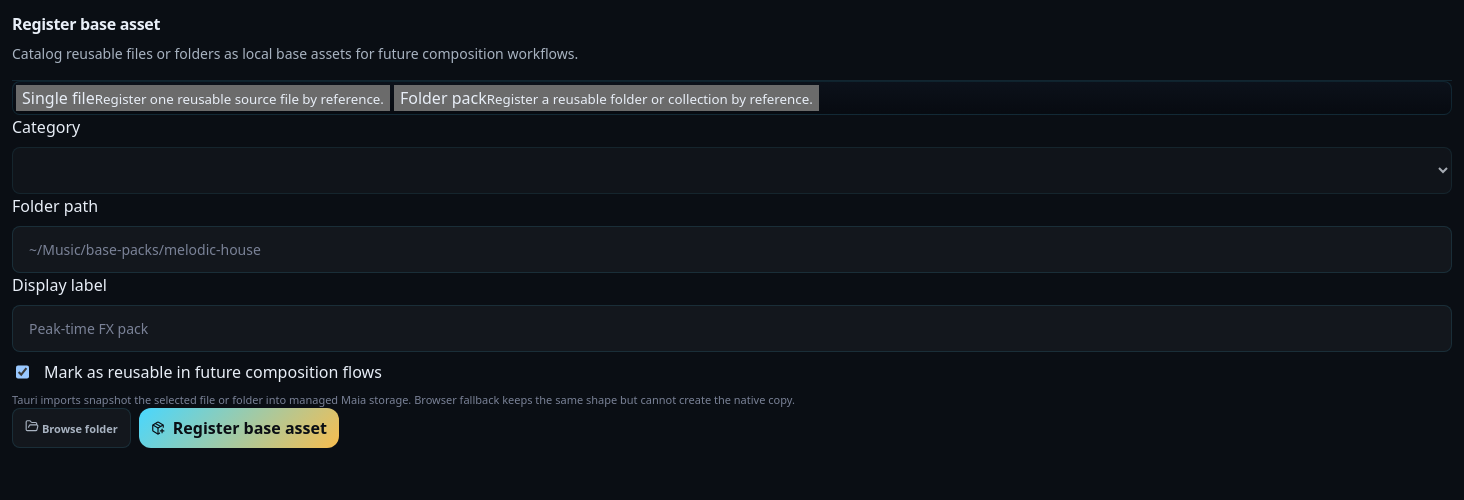
Test: ImportBaseAssetForm › validates required path and category before importing
The image size is (1464, 500).
Click the button "Register base asset" at point(239, 428), box [139,408,339,448]
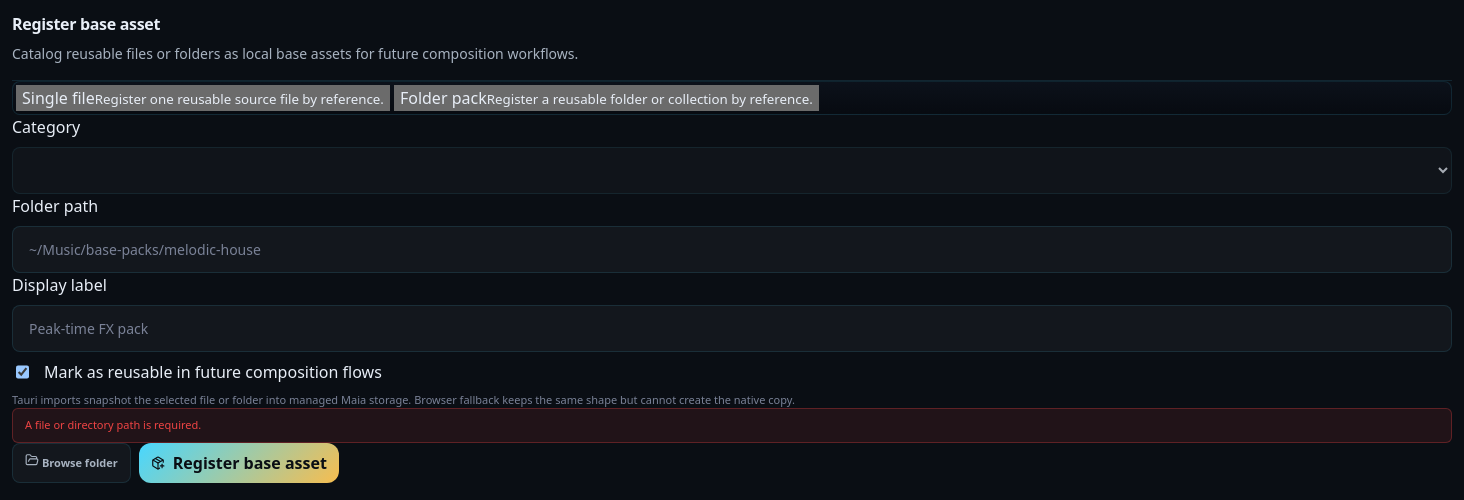
Check: the text "A file or directory path is required." is shown, box [12,408,1452,443]
Type "/packs/drums" into the field with placeholder "~/Music/base-packs/melodic-house" at point(732, 249), box [12,226,1452,273]
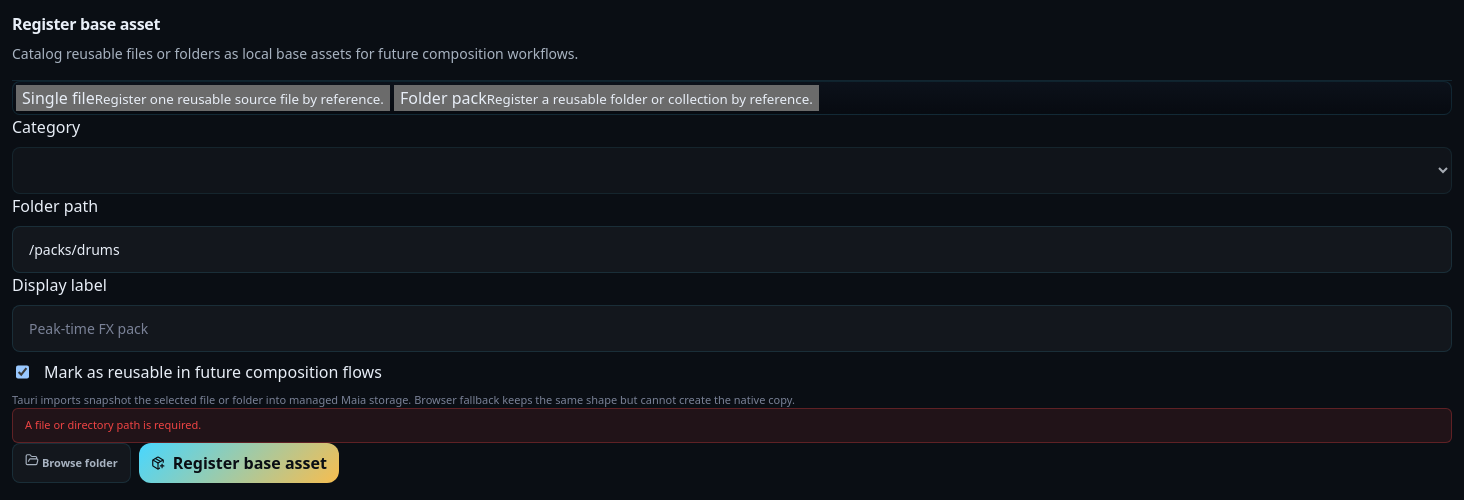
Click the button "Register base asset" at point(239, 463), box [139,443,339,483]
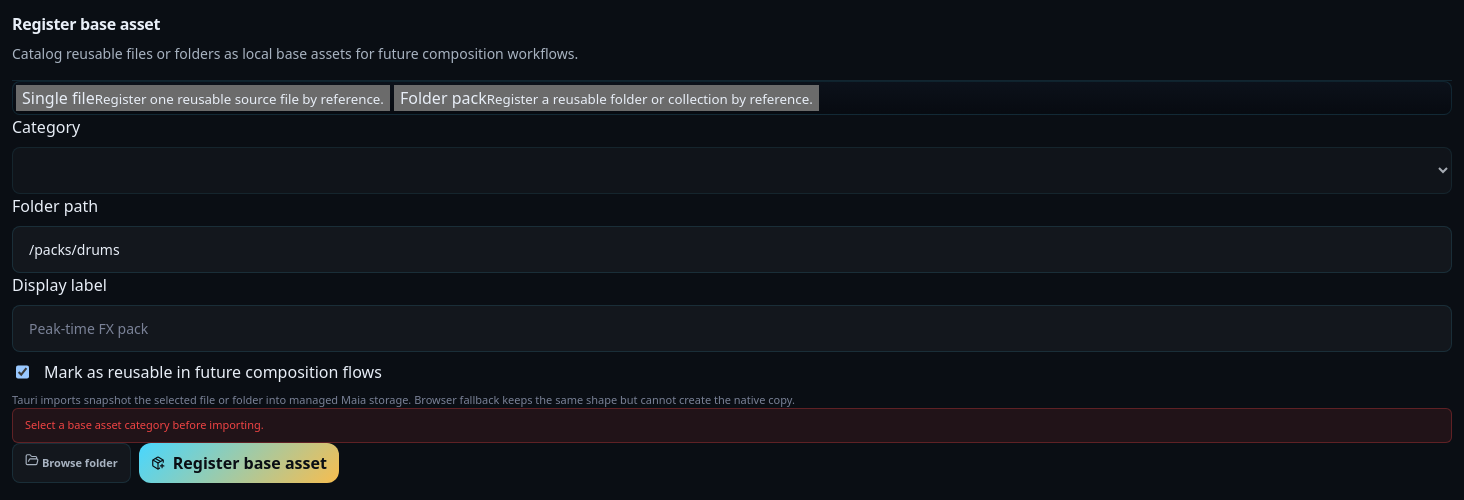
Check: the text "Select a base asset category before importing." is shown, box [12,408,1452,443]
